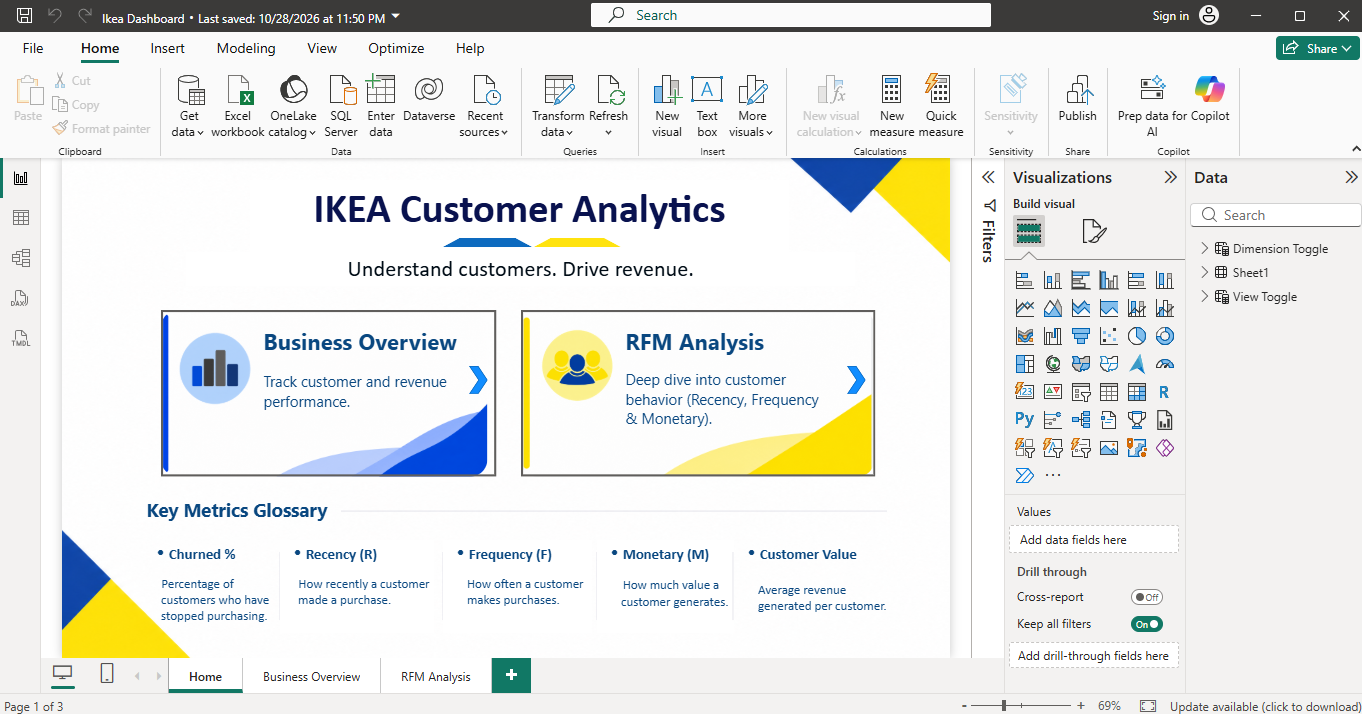

The dashboard page shown, as its layout file describes it:
{"tool":"powerbi","page":{"name":"Home","canvas":[1280,720],"ordinal":0},"visuals":[{"type":"textbox","box":[270.4,31.9,776.1,152.9],"z":0},{"type":"shape","box":[547.6,115.9,131,13.4],"z":1000},{"type":"shape","box":[678.6,115.9,127.7,13.4],"z":2000},{"type":"textbox","box":[178.1,136.1,964.2,48.7],"z":3000},{"type":"image","box":[660.2,218.4,510.7,240.2],"z":4000},{"type":"image","box":[142.8,218.4,470.3,240.2],"z":5000},{"type":"image","box":[678.6,236.9,127.7,122.6],"z":6000},{"type":"image","box":[156.2,240.2,129.3,119.3],"z":7000},{"type":"textbox","box":[285.6,236.9,288.9,65.5],"z":8000},{"type":"textbox","box":[285.6,302.4,288.9,70.6],"z":9000},{"type":"shape","box":[586.2,299,26.9,40.3],"z":10000},{"type":"shape","box":[1130.5,299,26.9,40.3],"z":11000},{"type":"textbox","box":[806.3,236.9,260.4,62.2],"z":12000},{"type":"textbox","box":[806.3,299,292.3,144.5],"z":13000},{"type":"textbox","box":[117.2,482.8,284.5,51.7],"z":14000},{"type":"shape","box":[401.7,432.8,786.2,150],"z":15000},{"type":"textbox","box":[117.2,550,196.6,134.5],"z":16000},{"type":"shape","box":[17.2,567.2,593.1,98.3],"z":17000},{"type":"textbox","box":[313.8,550,222.4,134.5],"z":18000},{"type":"shape","box":[251.7,567.2,593.1,98.3],"z":19000},{"type":"textbox","box":[548.3,550,213.8,134.5],"z":20000},{"type":"shape","box":[474.1,567.2,593.1,98.3],"z":21000},{"type":"textbox","box":[770.7,550,196.6,134.5],"z":22000},{"type":"shape","box":[691.4,567.2,550,98.3],"z":23000},{"type":"textbox","box":[967.2,550,291.4,153.4],"z":24000},{"type":"actionButton","box":[143.1,219,482.8,239.7],"z":24001},{"type":"actionButton","box":[660.3,219,510.3,239.7],"z":24002}]}

Visuals, with their boxes on the page's 1280x720 design canvas (x1, y1, x2, y2). These are canvas units, not pixel positions in the 1362x714 screenshot, which may show the page scaled, cropped or inside an application window:
textbox: rect(270, 32, 1046, 185)
shape: rect(548, 116, 679, 129)
shape: rect(679, 116, 806, 129)
textbox: rect(178, 136, 1142, 185)
image: rect(660, 218, 1171, 459)
image: rect(143, 218, 613, 459)
image: rect(679, 237, 806, 360)
image: rect(156, 240, 286, 360)
textbox: rect(286, 237, 574, 302)
textbox: rect(286, 302, 574, 373)
shape: rect(586, 299, 613, 339)
shape: rect(1130, 299, 1157, 339)
textbox: rect(806, 237, 1067, 299)
textbox: rect(806, 299, 1099, 444)
textbox: rect(117, 483, 402, 534)
shape: rect(402, 433, 1188, 583)
textbox: rect(117, 550, 314, 684)
shape: rect(17, 567, 610, 666)
textbox: rect(314, 550, 536, 684)
shape: rect(252, 567, 845, 666)
textbox: rect(548, 550, 762, 684)
shape: rect(474, 567, 1067, 666)
textbox: rect(771, 550, 967, 684)
shape: rect(691, 567, 1241, 666)
textbox: rect(967, 550, 1259, 703)
actionButton: rect(143, 219, 626, 459)
actionButton: rect(660, 219, 1171, 459)
